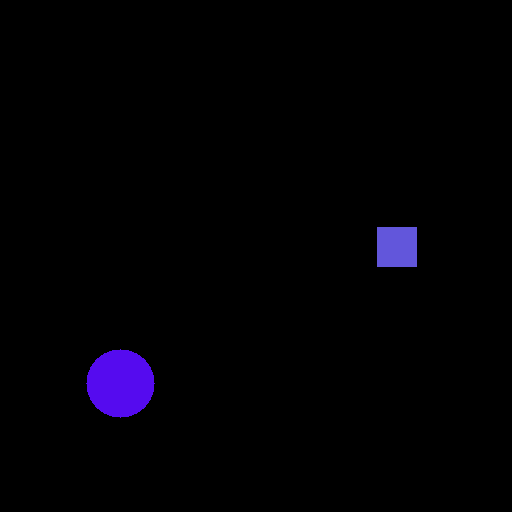circle: (84, 349, 157, 418)
square: (378, 227, 418, 267)
